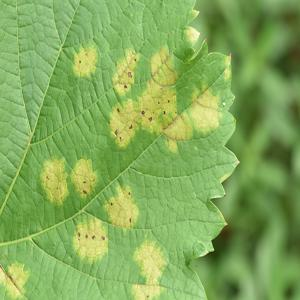Folha: (0, 0, 240, 299)
Fungo: (38, 44, 179, 264), (108, 46, 178, 148), (131, 237, 168, 299), (72, 215, 108, 262), (103, 182, 139, 228), (108, 98, 142, 146), (40, 156, 69, 206), (192, 85, 222, 133), (149, 45, 178, 87), (112, 49, 139, 94), (1, 261, 30, 300), (70, 157, 97, 195), (164, 110, 192, 146), (72, 43, 98, 79), (183, 25, 200, 47), (223, 51, 231, 80), (141, 108, 152, 122), (191, 6, 199, 21), (128, 71, 132, 78), (114, 128, 118, 135), (148, 116, 152, 122), (141, 110, 145, 116), (77, 231, 80, 239), (101, 235, 105, 240), (222, 101, 226, 106), (82, 189, 86, 194), (84, 234, 88, 238), (174, 110, 178, 114), (129, 124, 132, 129), (78, 59, 81, 64), (167, 99, 170, 103), (46, 175, 49, 179), (82, 180, 86, 183), (157, 100, 160, 104), (117, 107, 119, 112), (92, 234, 94, 239), (119, 136, 121, 141), (163, 110, 165, 114), (124, 84, 126, 88), (110, 201, 112, 205), (128, 191, 130, 195), (134, 57, 136, 61), (129, 218, 131, 222)
